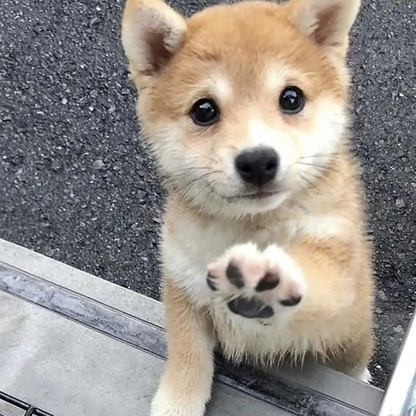shiba: (111, 1, 382, 416)
